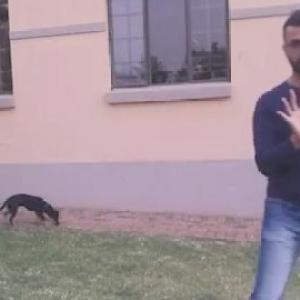follow_hand: (270, 79, 299, 155)
